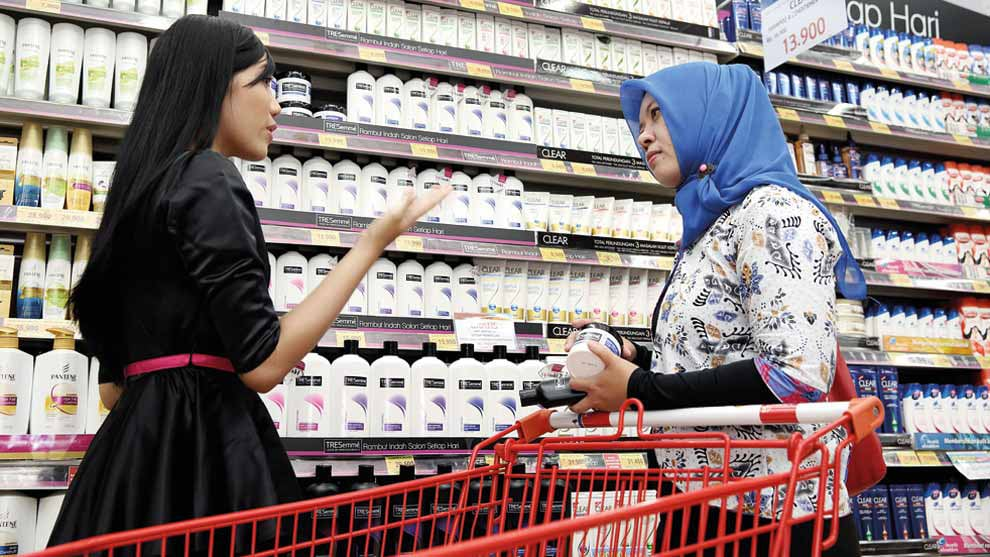Age_20_30: (166, 22, 290, 163)
Age_30_40: (622, 67, 759, 184)
E_Arab: (622, 67, 759, 184)
E_Asian: (166, 22, 290, 163)
Emotion_Neutral: (166, 22, 290, 163), (622, 67, 759, 184)
G_ Female: (166, 22, 290, 163), (622, 67, 759, 184)
